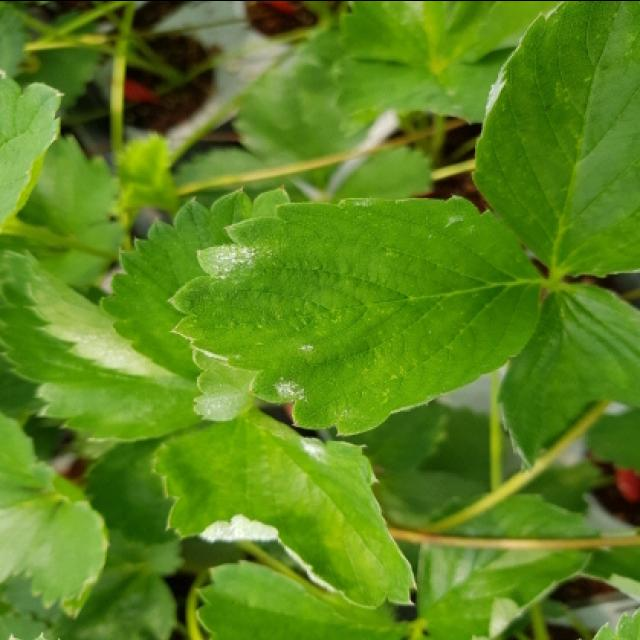Powdery Mildew Leaf: (167, 193, 544, 435), (150, 406, 417, 613), (95, 183, 291, 424), (470, 2, 638, 279), (0, 244, 201, 444)
